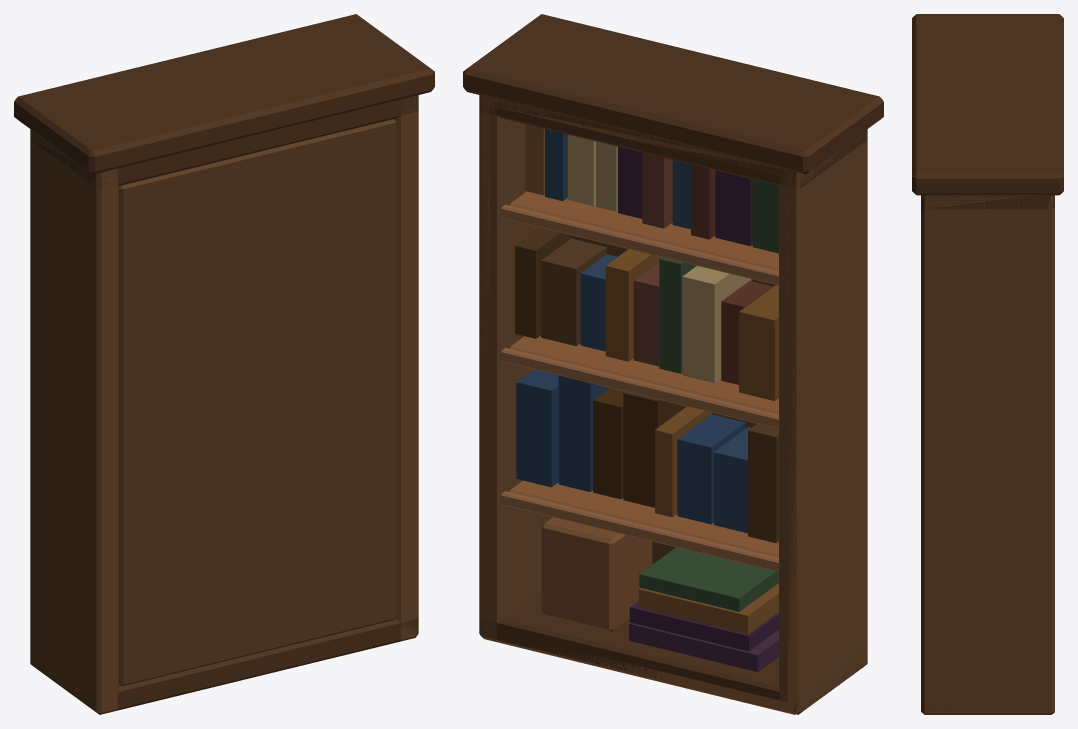
The model's file is Bookshelf.glb.
3 views of the same model, side by side, from view 1: azimuth 30°, elevation 25°; view 2: azimuth 150°, elevation 25°; view 3: azimuth 270°, elevation 25° (orthographic). The views are drawn at different scales.
Parts seen in each view (by area): view 1: Body; view 2: Body; view 3: Body.
Part boxes in pixels (x1,y1,x2,y2): Body: (14, 14, 434, 714); Body: (463, 14, 883, 714); Body: (912, 14, 1063, 714).
Size of what is drawn, in the model's own units: 4.3 by 6.76 by 1.7.
